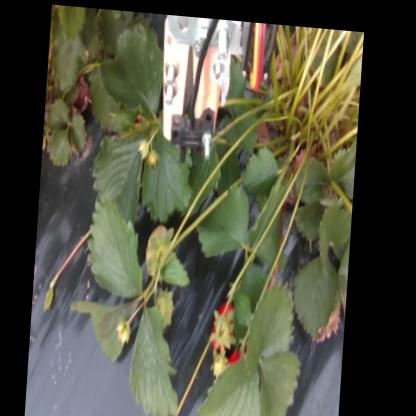ripe: (232, 334, 258, 387), (217, 299, 242, 348), (129, 100, 151, 125)
